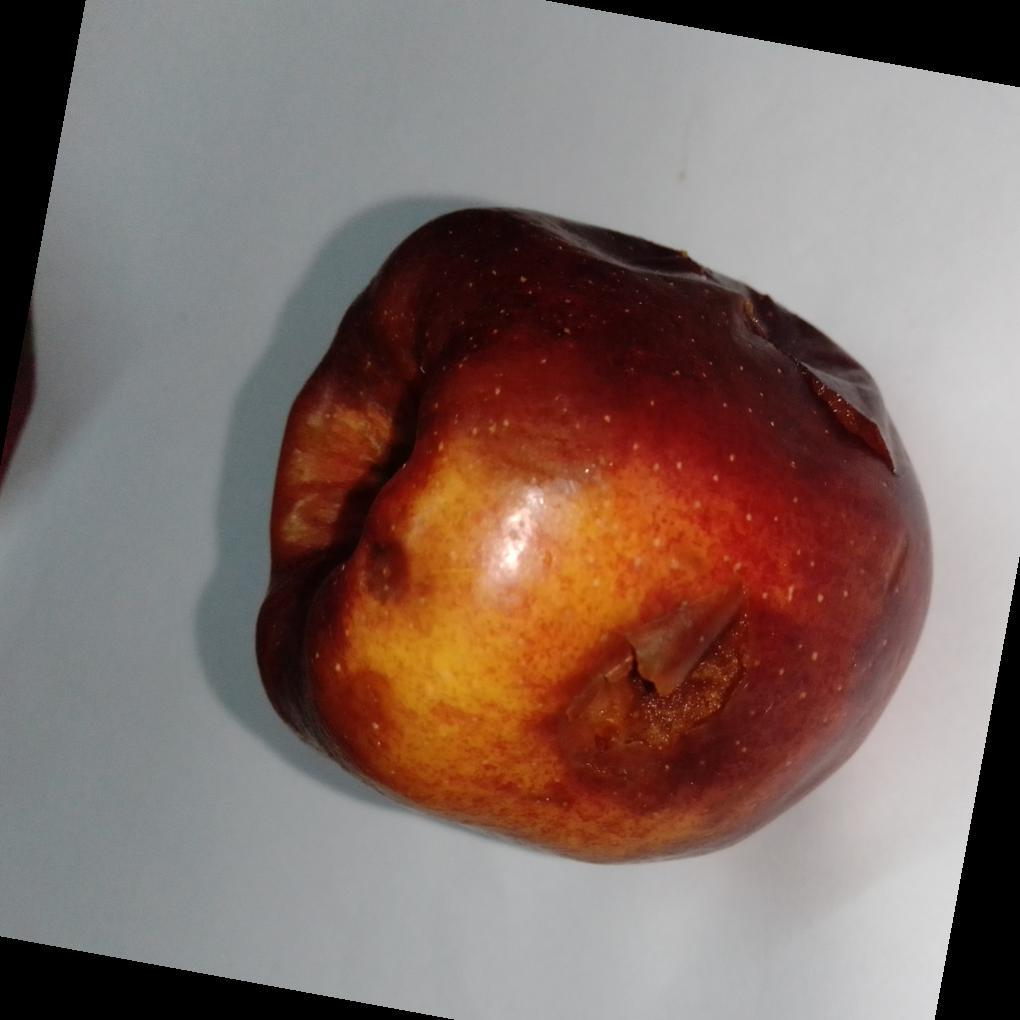FreshOrange: (251, 207, 934, 869)
